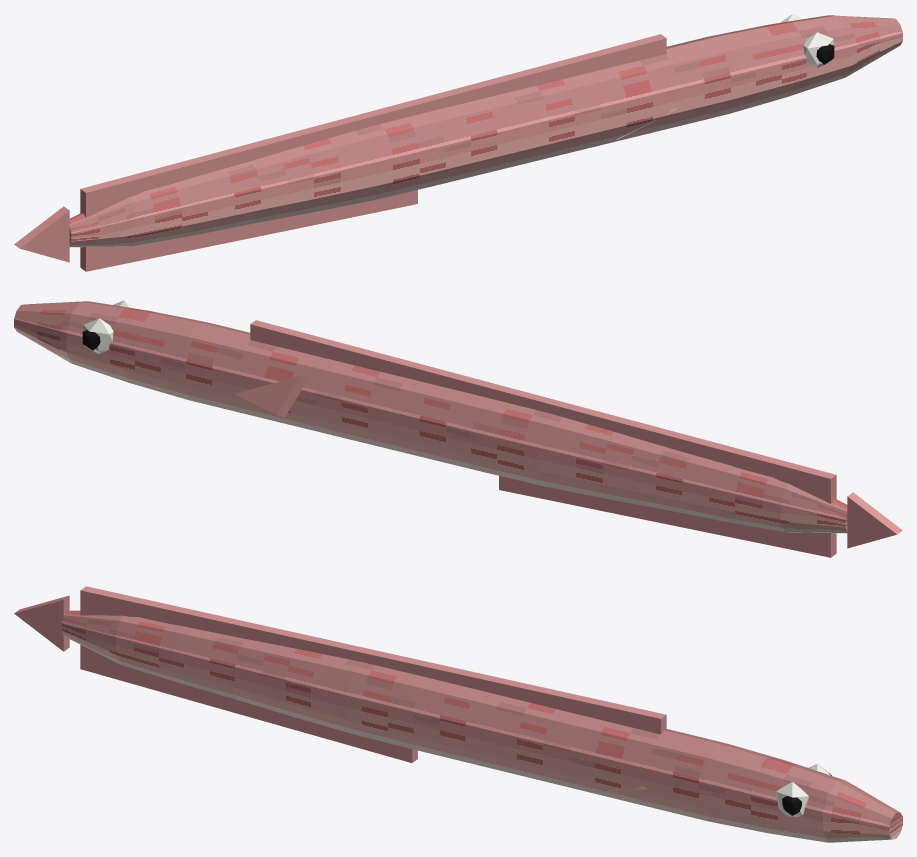
Rendered from pink_ling.glb.
The picture shows the model from 3 angles, top to bottom: view 1: azimuth 30°, elevation 25°; view 2: azimuth 150°, elevation 25°; view 3: azimuth 330°, elevation 25°; orthographic projection.
Parts seen in each view (by area): view 1: fish_pink_ling; view 2: fish_pink_ling; view 3: fish_pink_ling.
Boxes of the visible parts, box(x1,y1,x2,y2) form: fish_pink_ling: box(14, 14, 902, 271); fish_pink_ling: box(14, 300, 902, 557); fish_pink_ling: box(14, 586, 902, 842).
Size of the model in its own units: 1.06 by 0.121 by 0.1047.
Materials: 4 (1 with a texture image).
